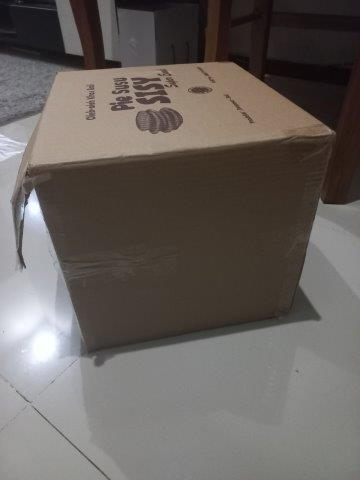kardus: (44, 59, 335, 353)
